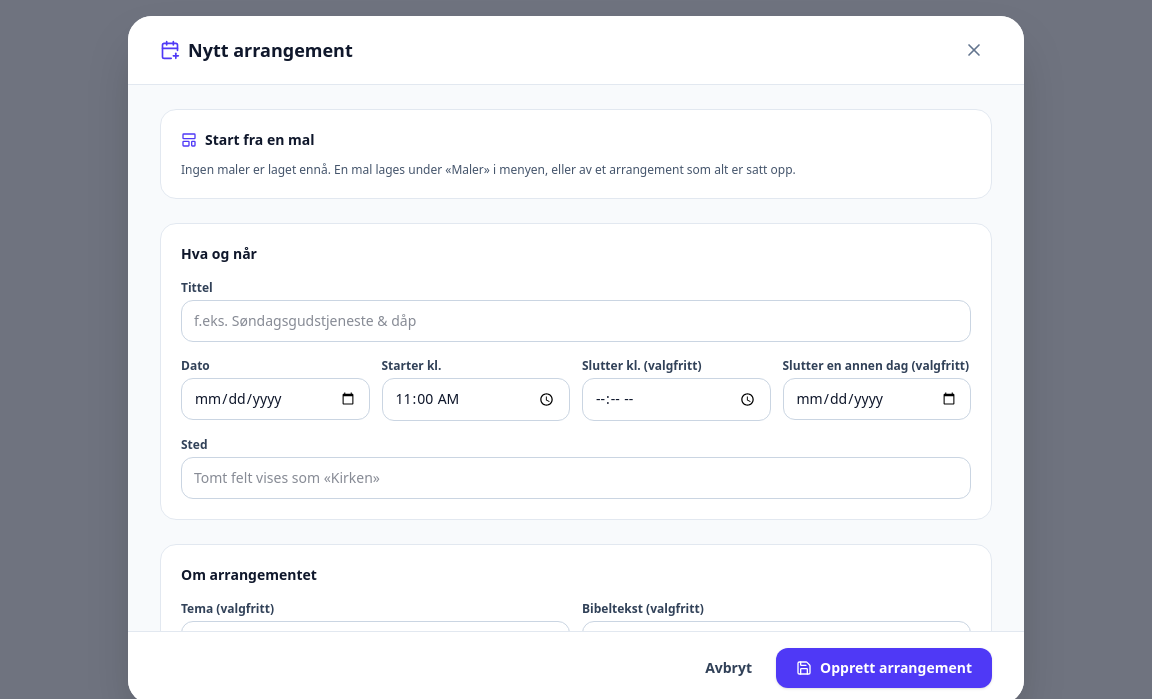
Test: Det store skjemaet for et nytt arrangement › sier hva som mangler, og lagrer ikke før det er rettet
Click the button "Opprett arrangement" at [884, 668], box [776,648,992,688]
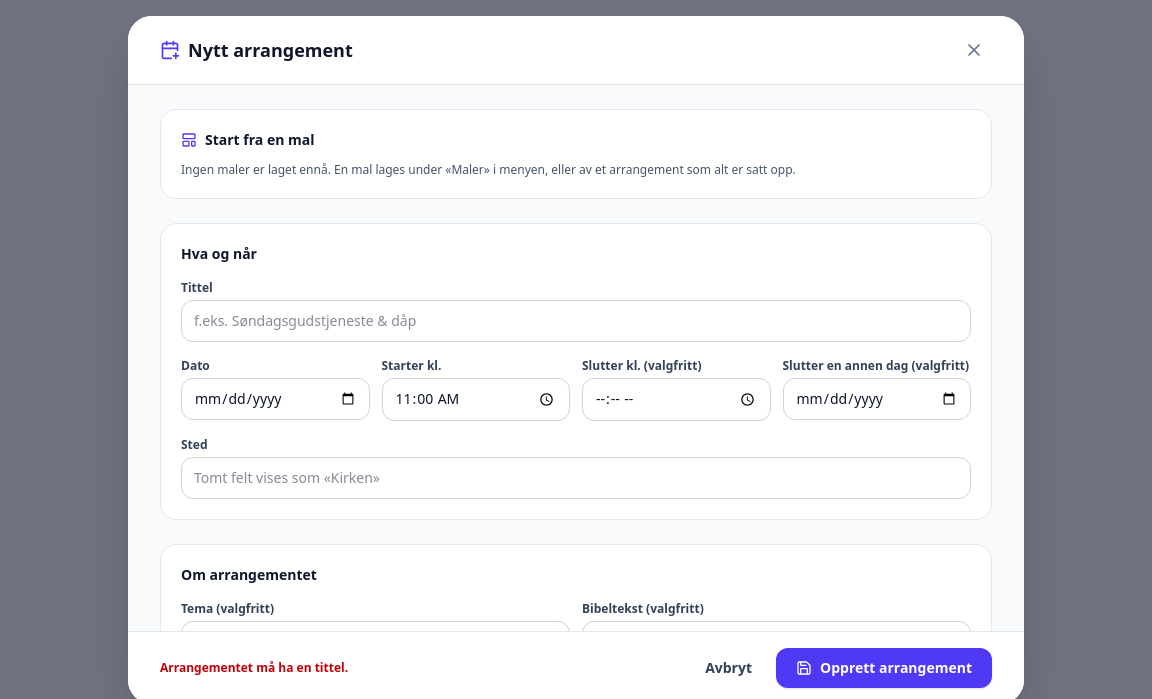
Expected: the message reads "Arrangementet må ha en tittel.", [160,659,348,676]
Type "Høstfest" into the field labelled "Tittel" at [576, 321], box [181,300,971,342]
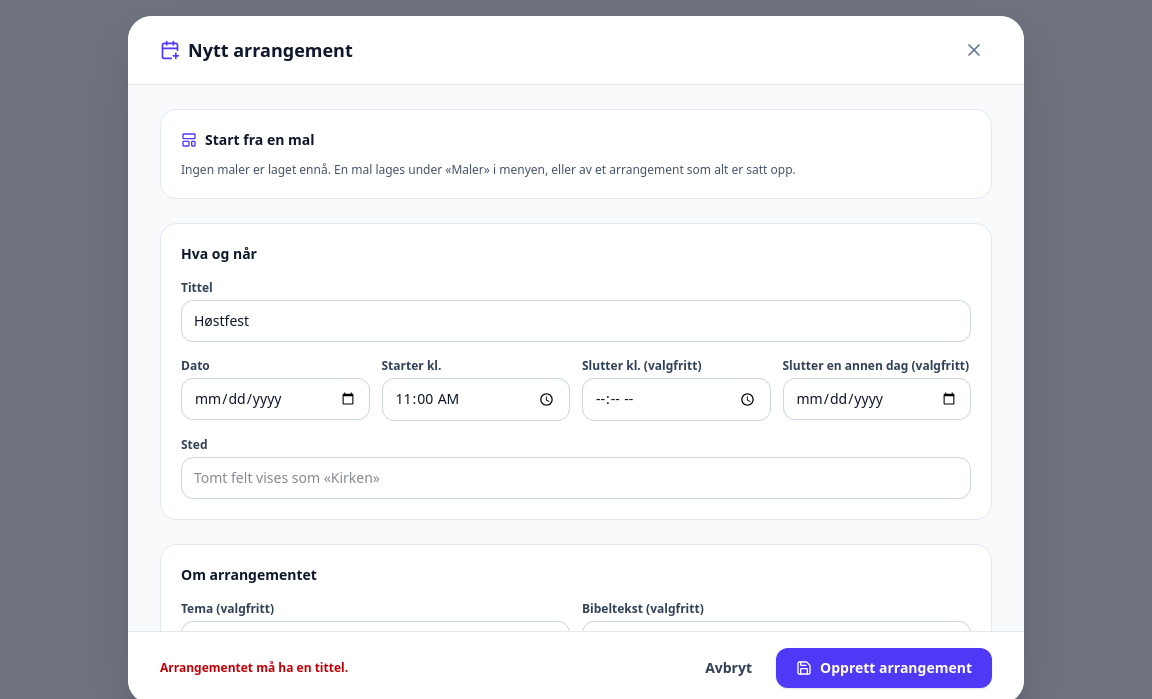
Type "2026-10-18" into the date field labelled "Dato" at [275, 399], box [181,378,370,420]
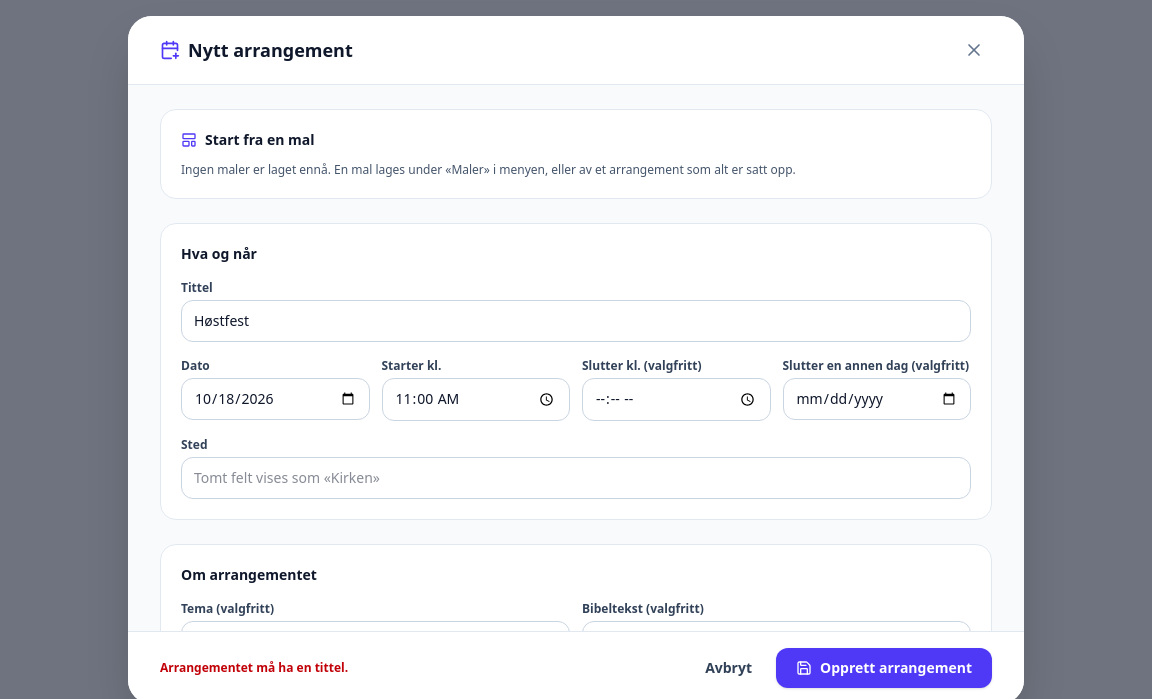
Type "10:00" into the time field labelled "Slutter kl. (valgfritt)" at [676, 399], box [582,378,770,421]
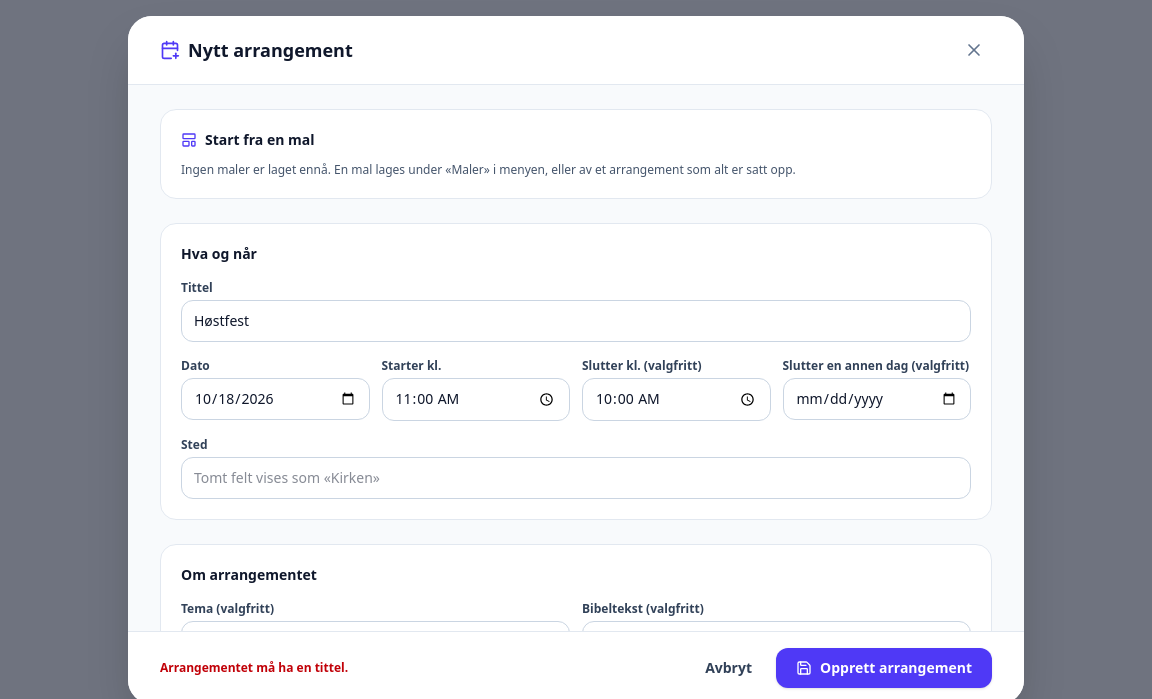
Click the button "Opprett arrangement" at [884, 668], box [776,648,992,688]
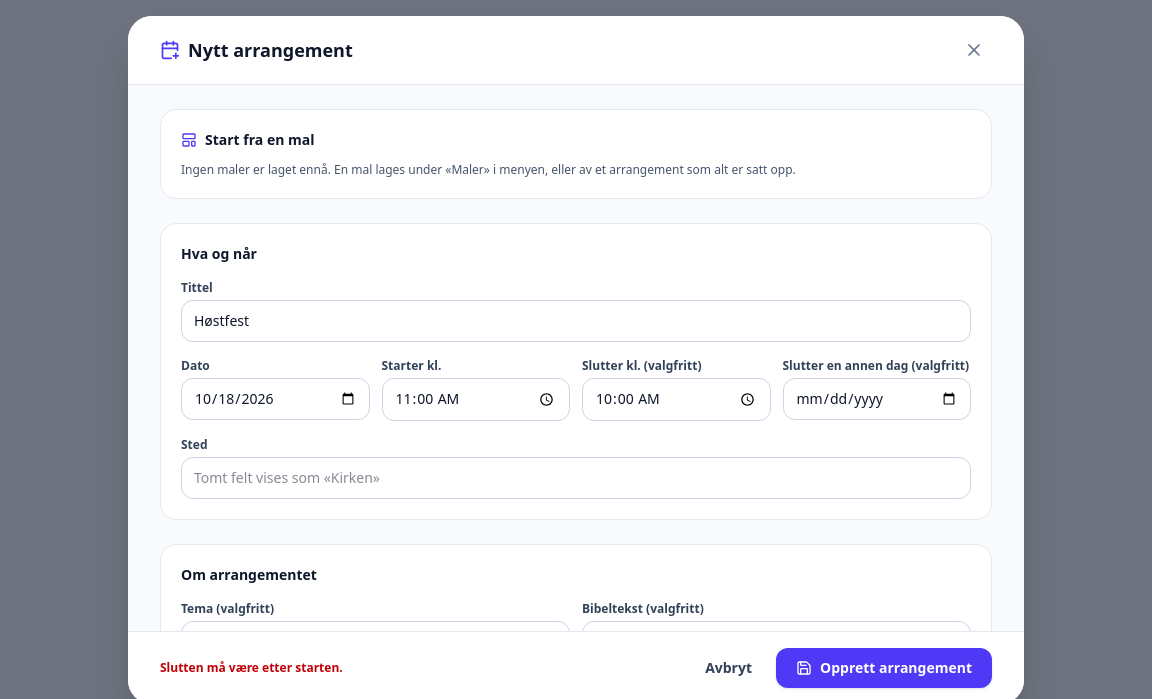
Expected: the message reads "Slutten må være etter starten.", [160,659,343,676]
